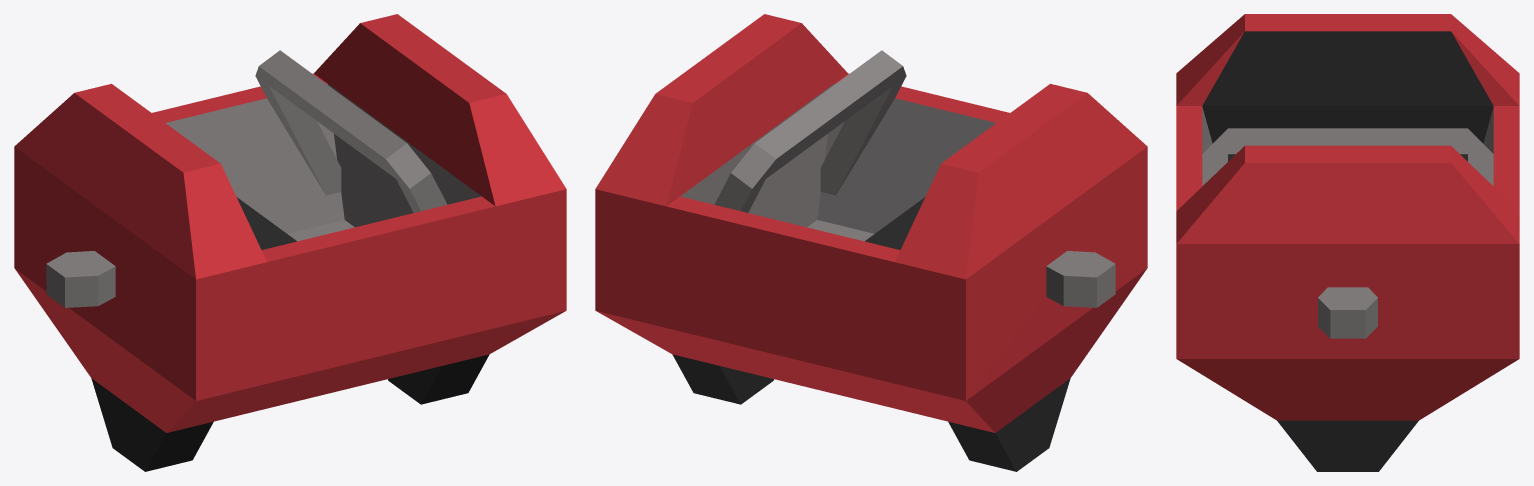
The model's file is amusement-park-roller-coaster-cart.glb.
3 views of the same model, side by side, from view 1: azimuth 30°, elevation 25°; view 2: azimuth 150°, elevation 25°; view 3: azimuth 270°, elevation 25° (orthographic). The views are drawn at different scales.
Visible parts, largest first — view 1: roller-coaster-cart; view 2: roller-coaster-cart; view 3: roller-coaster-cart.
Part boxes in pixels (x1,y1,x2,y2): roller-coaster-cart: [14, 14, 566, 471]; roller-coaster-cart: [595, 14, 1147, 471]; roller-coaster-cart: [1176, 14, 1519, 471].
Size of the model in its own units: 1.98 by 1.32 by 1.33.
